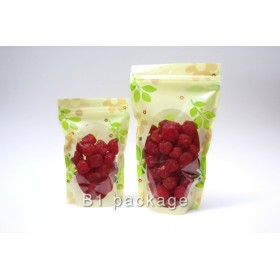Snack: (56, 94, 127, 209)
